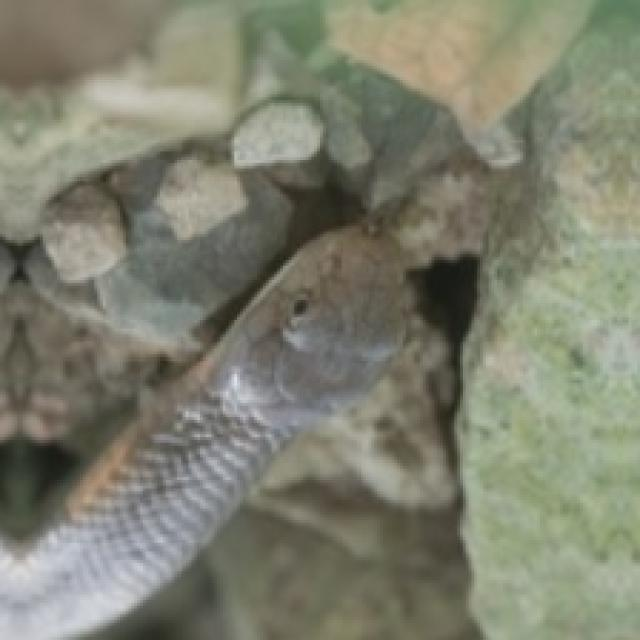king cobra: (0, 226, 406, 637)
